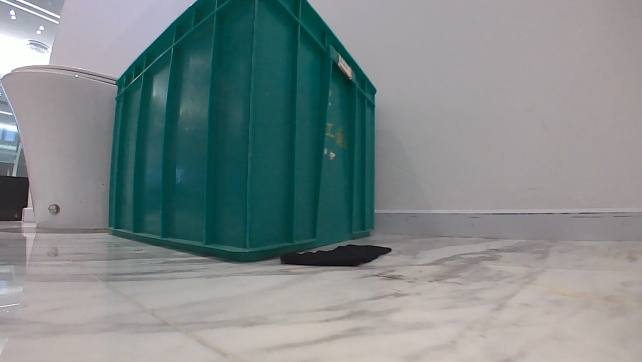socks: (275, 239, 394, 269)
toilet: (3, 60, 121, 229)
